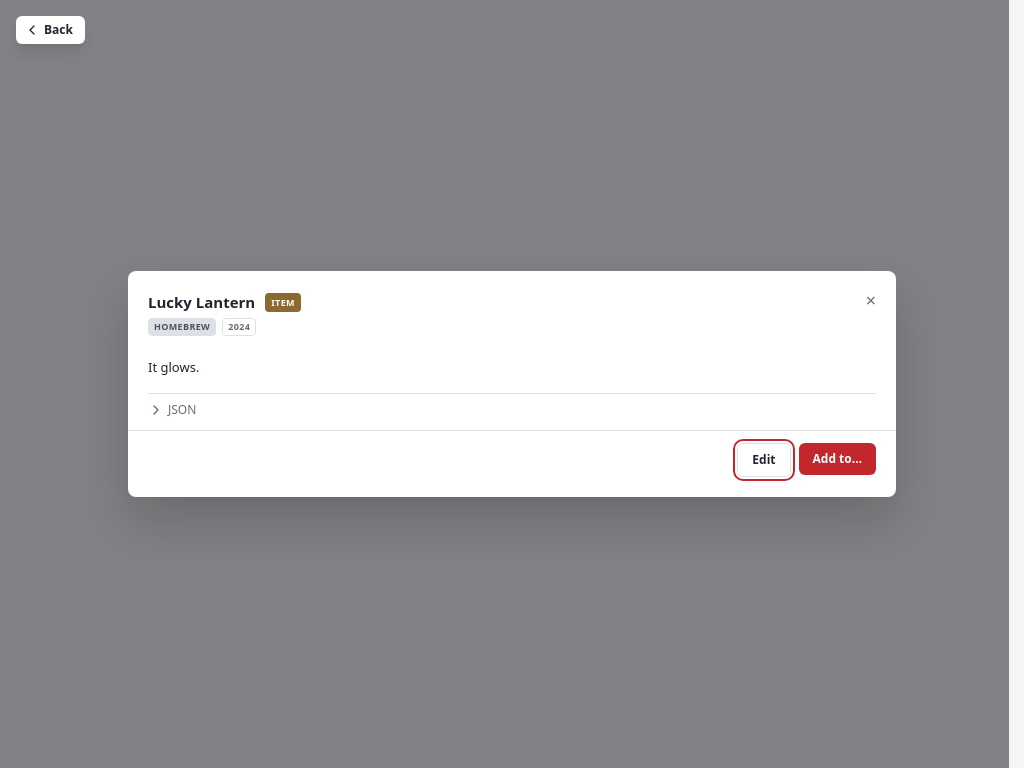
Test: EditHomebrewButton › Undo in the editor opened from a sheet › reverts the row once it has, saying why where the API refuses
This screenshot has width=1024, height=768.
Step 1. Click the button "Edit" → (764, 460), box [737,443,790,477]
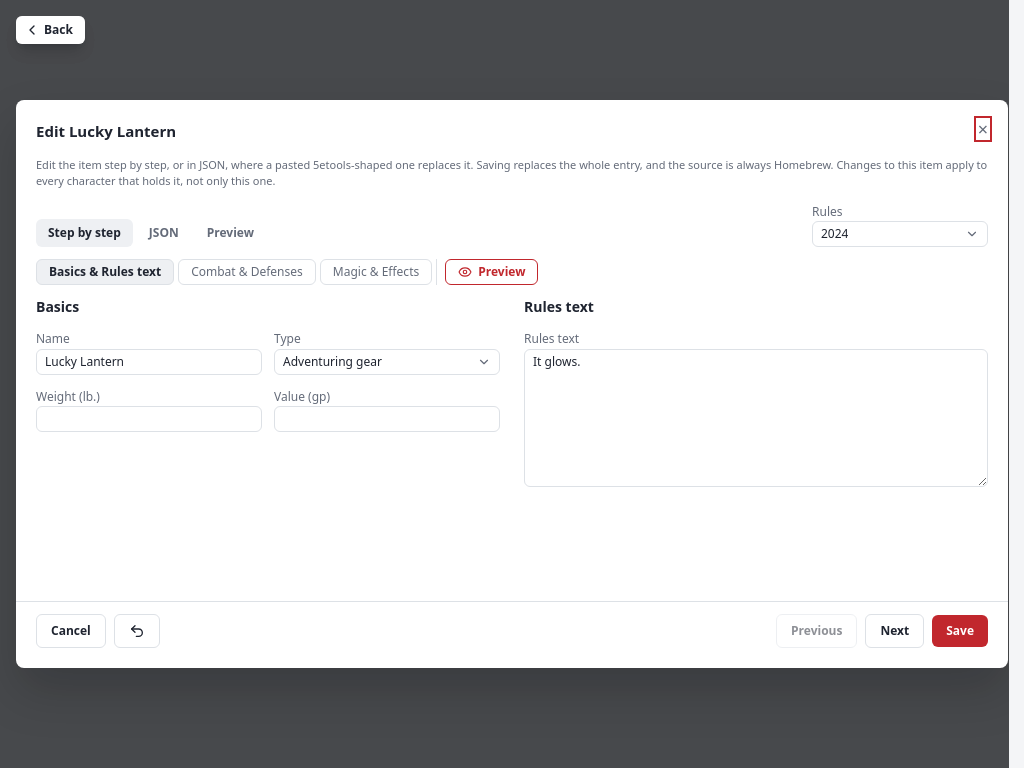
Result: the 1st dialog is shown
Step 2. Click the button named "Undo" → (137, 631), box [114,614,160,648]
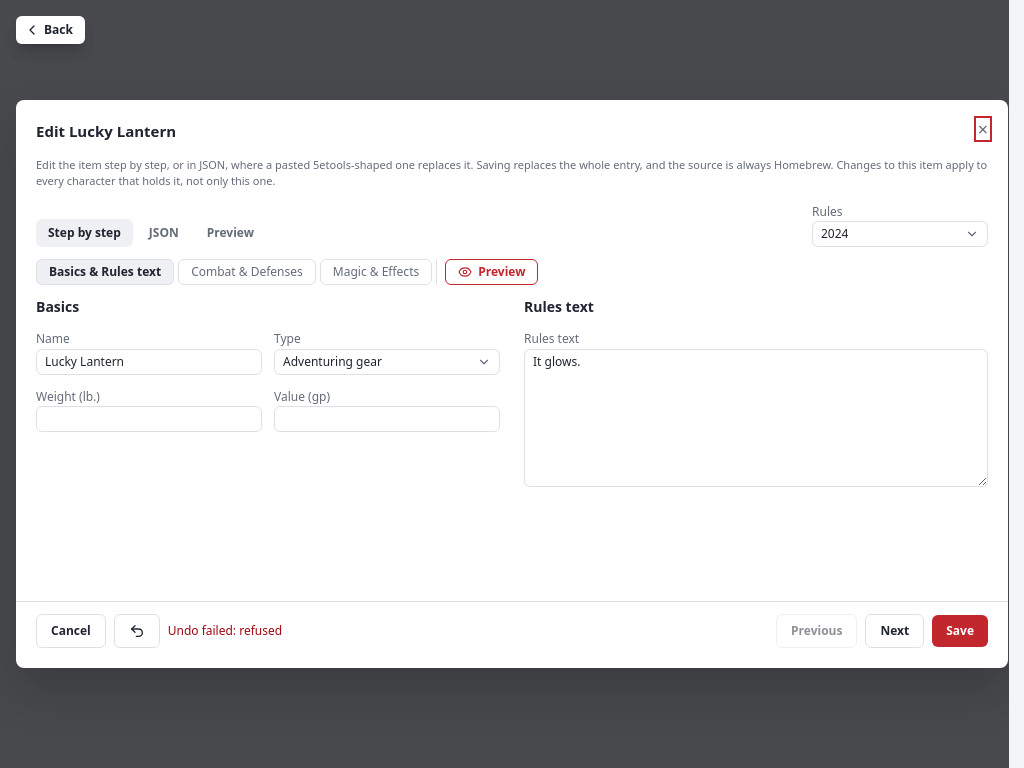
Result: the text "Undo failed: refused" is shown at [168,623,282,639]
